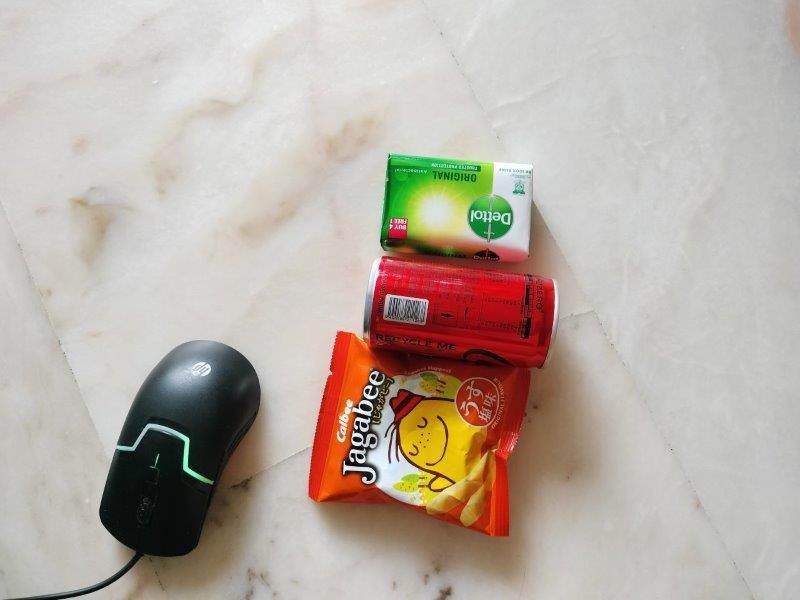Coke: (364, 256, 558, 371)
Dettol: (381, 153, 532, 261)
Jagabee: (311, 335, 528, 535)
